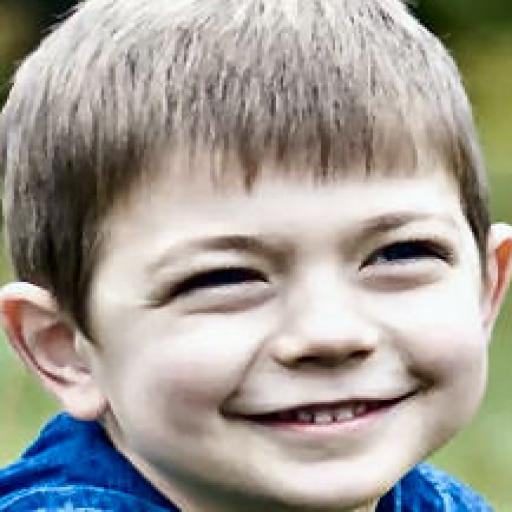Autism: (25, 15, 512, 510)
